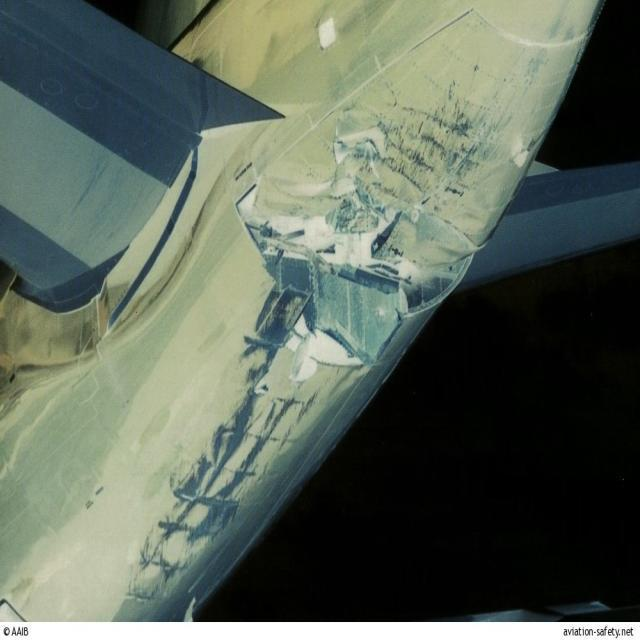crack: (235, 169, 417, 371)
